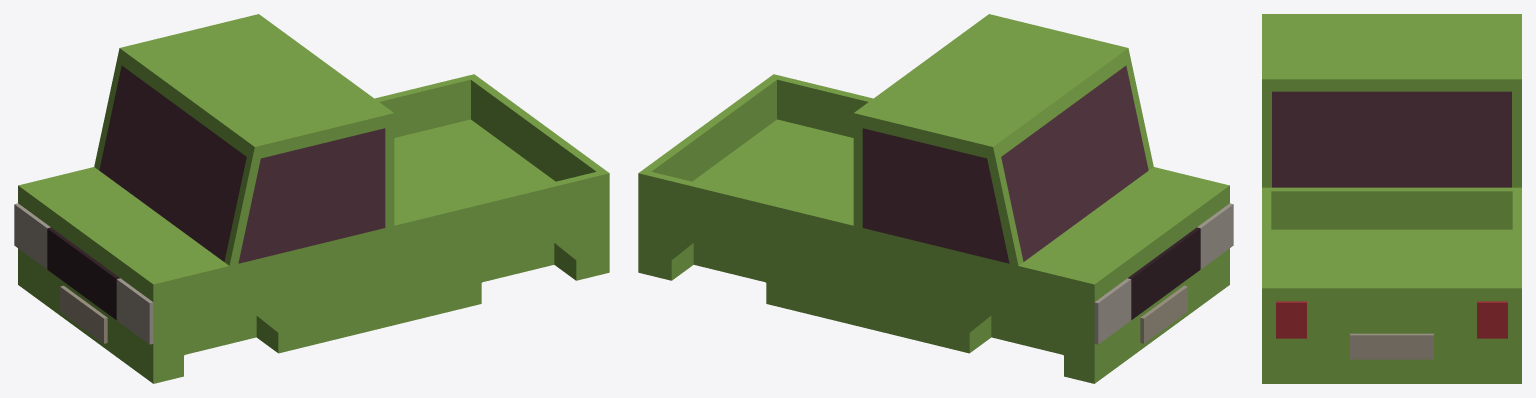
The model's file is Pickup_Green.fbx.
3 renders of one model, left to right at view 1: azimuth 30°, elevation 25°; view 2: azimuth 150°, elevation 25°; view 3: azimuth 270°, elevation 25°, orthographic. The views are drawn at different scales.
Parts seen in each view (by area): view 1: Pickup_Green, Pickup_Lights; view 2: Pickup_Green, Pickup_Lights; view 3: Pickup_Green, Pickup_Lights.
Boxes of the visible parts, left/top/right/bottom form: Pickup_Green: left=18, top=14, right=609, bottom=383; Pickup_Lights: left=14, top=203, right=153, bottom=344; Pickup_Green: left=638, top=14, right=1229, bottom=383; Pickup_Lights: left=1094, top=203, right=1233, bottom=344; Pickup_Green: left=1262, top=14, right=1521, bottom=383; Pickup_Lights: left=1276, top=301, right=1507, bottom=338.
Bounding box in the file's own units: 3.66 × 1.6 × 1.85.
